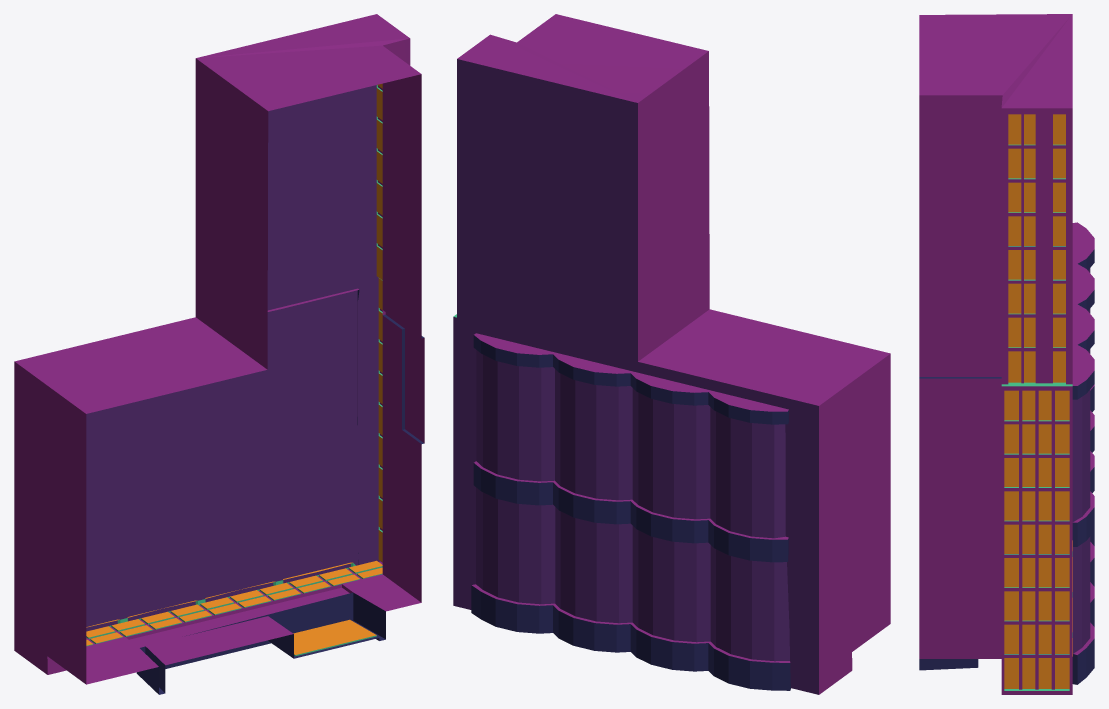
The model's file is Sezam Tier 3.fbx.
3 views of the same model, side by side, from view 1: azimuth 30°, elevation 25°; view 2: azimuth 150°, elevation 25°; view 3: azimuth 270°, elevation 25° (orthographic). The views are drawn at different scales.
Parts seen in each view (by area): view 1: Sezam; view 2: Sezam; view 3: Sezam.
Boxes of the visible parts, x1=… form: Sezam: x1=14, y1=14, x2=424, y2=694; Sezam: x1=453, y1=14, x2=890, y2=694; Sezam: x1=919, y1=14, x2=1094, y2=694.
Size of the model in its own units: 3.03 by 4.41 by 1.18.
